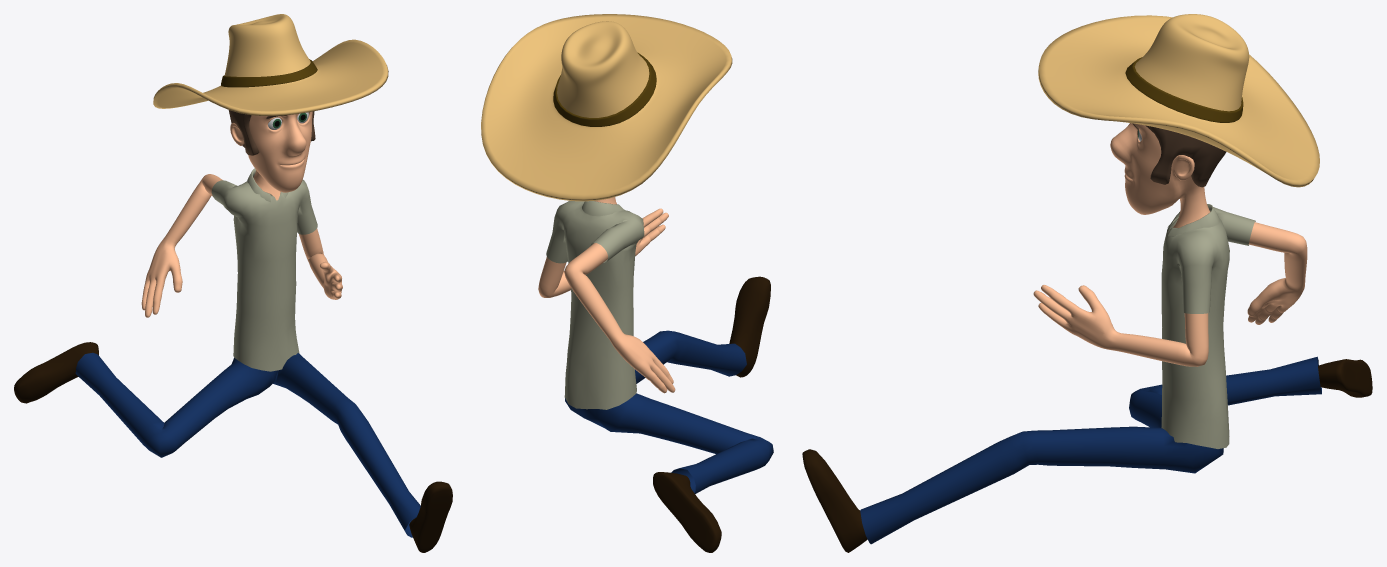
Rendered from GuyJump.obj.
3 renders of one model, left to right at view 1: azimuth 30°, elevation 25°; view 2: azimuth 150°, elevation 25°; view 3: azimuth 270°, elevation 25°, orthographic. The views are drawn at different scales.
Size of the model in its own units: 3.26 by 4.97 by 4.92.
